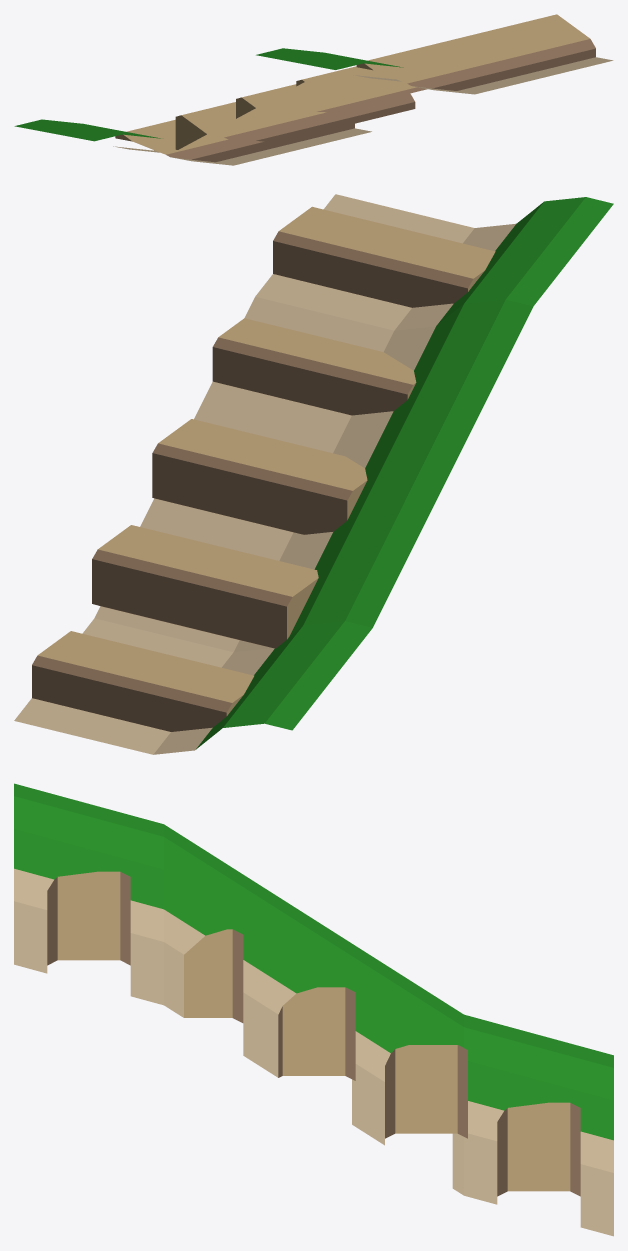
The model's file is Hilly_Terrain_Path_Hill_Sharp_Steps_Side.glb.
The picture shows the model from 3 angles, top to bottom: view 1: azimuth 30°, elevation 25°; view 2: azimuth 150°, elevation 25°; view 3: azimuth 270°, elevation 25°; orthographic projection. The views are drawn at different scales.
Parts seen in each view (by area): view 1: Hilly_Terrain_Path_Hill_Sharp_Steps_Side; view 2: Hilly_Terrain_Path_Hill_Sharp_Steps_Side; view 3: Hilly_Terrain_Path_Hill_Sharp_Steps_Side.
Boxes of the visible parts, box(x1,y1,x2,y2) form: Hilly_Terrain_Path_Hill_Sharp_Steps_Side: box(14, 14, 613, 165); Hilly_Terrain_Path_Hill_Sharp_Steps_Side: box(14, 194, 613, 754); Hilly_Terrain_Path_Hill_Sharp_Steps_Side: box(14, 783, 613, 1236).
Bounding box in the file's own units: 1 × 1.2 × 2.
